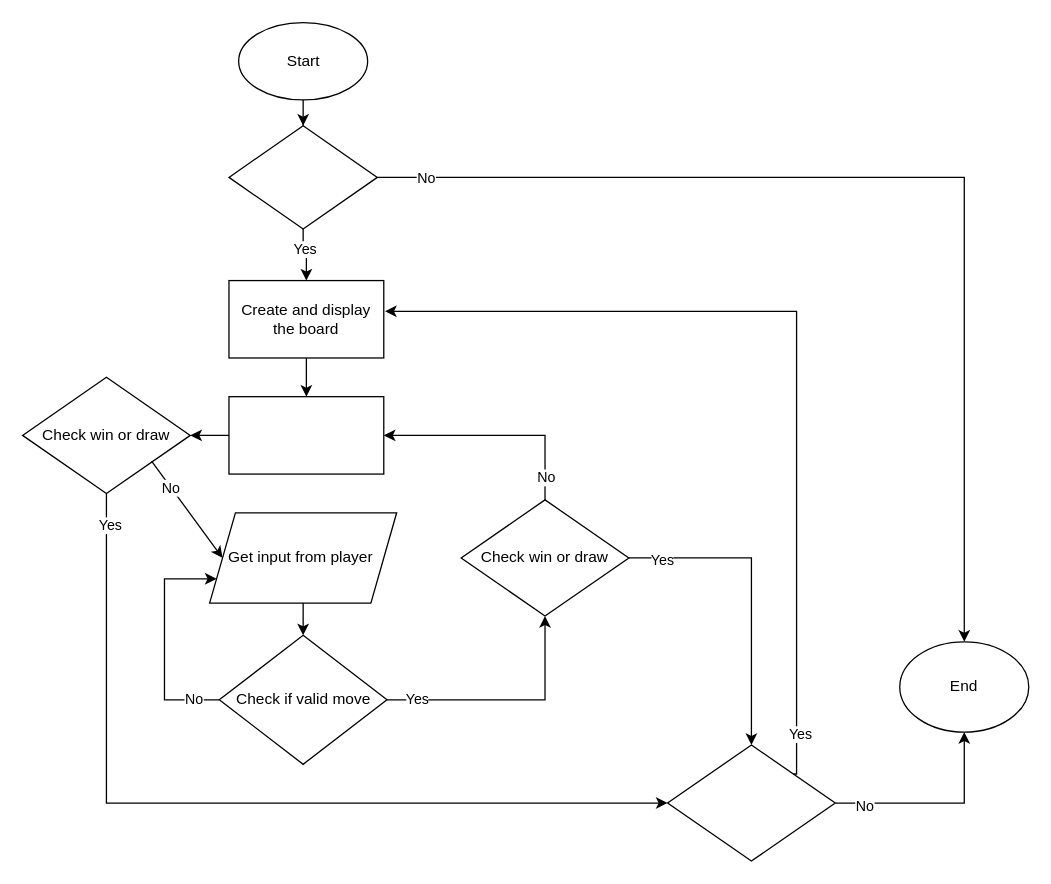
The diagram is 1051 pixels wide and 884 high, and some of its shapes have lost their labels. Here are the shapes that lost their labels. From the top down, the centre of each, then its label:
At point 302,176: "Ready to start ?".
At point 306,434: "Get valid computer move".
At point 750,802: "Play again ?".
